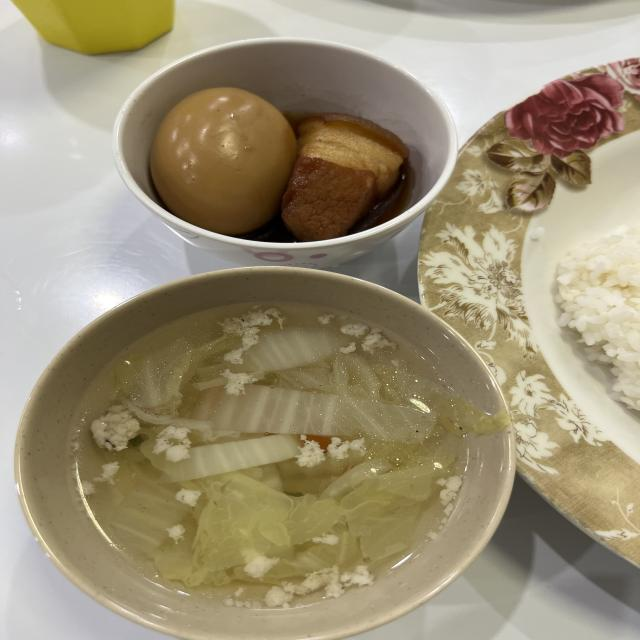canh cai: (74, 303, 508, 609)
com: (557, 226, 640, 410)
kho trung: (151, 87, 405, 241)
